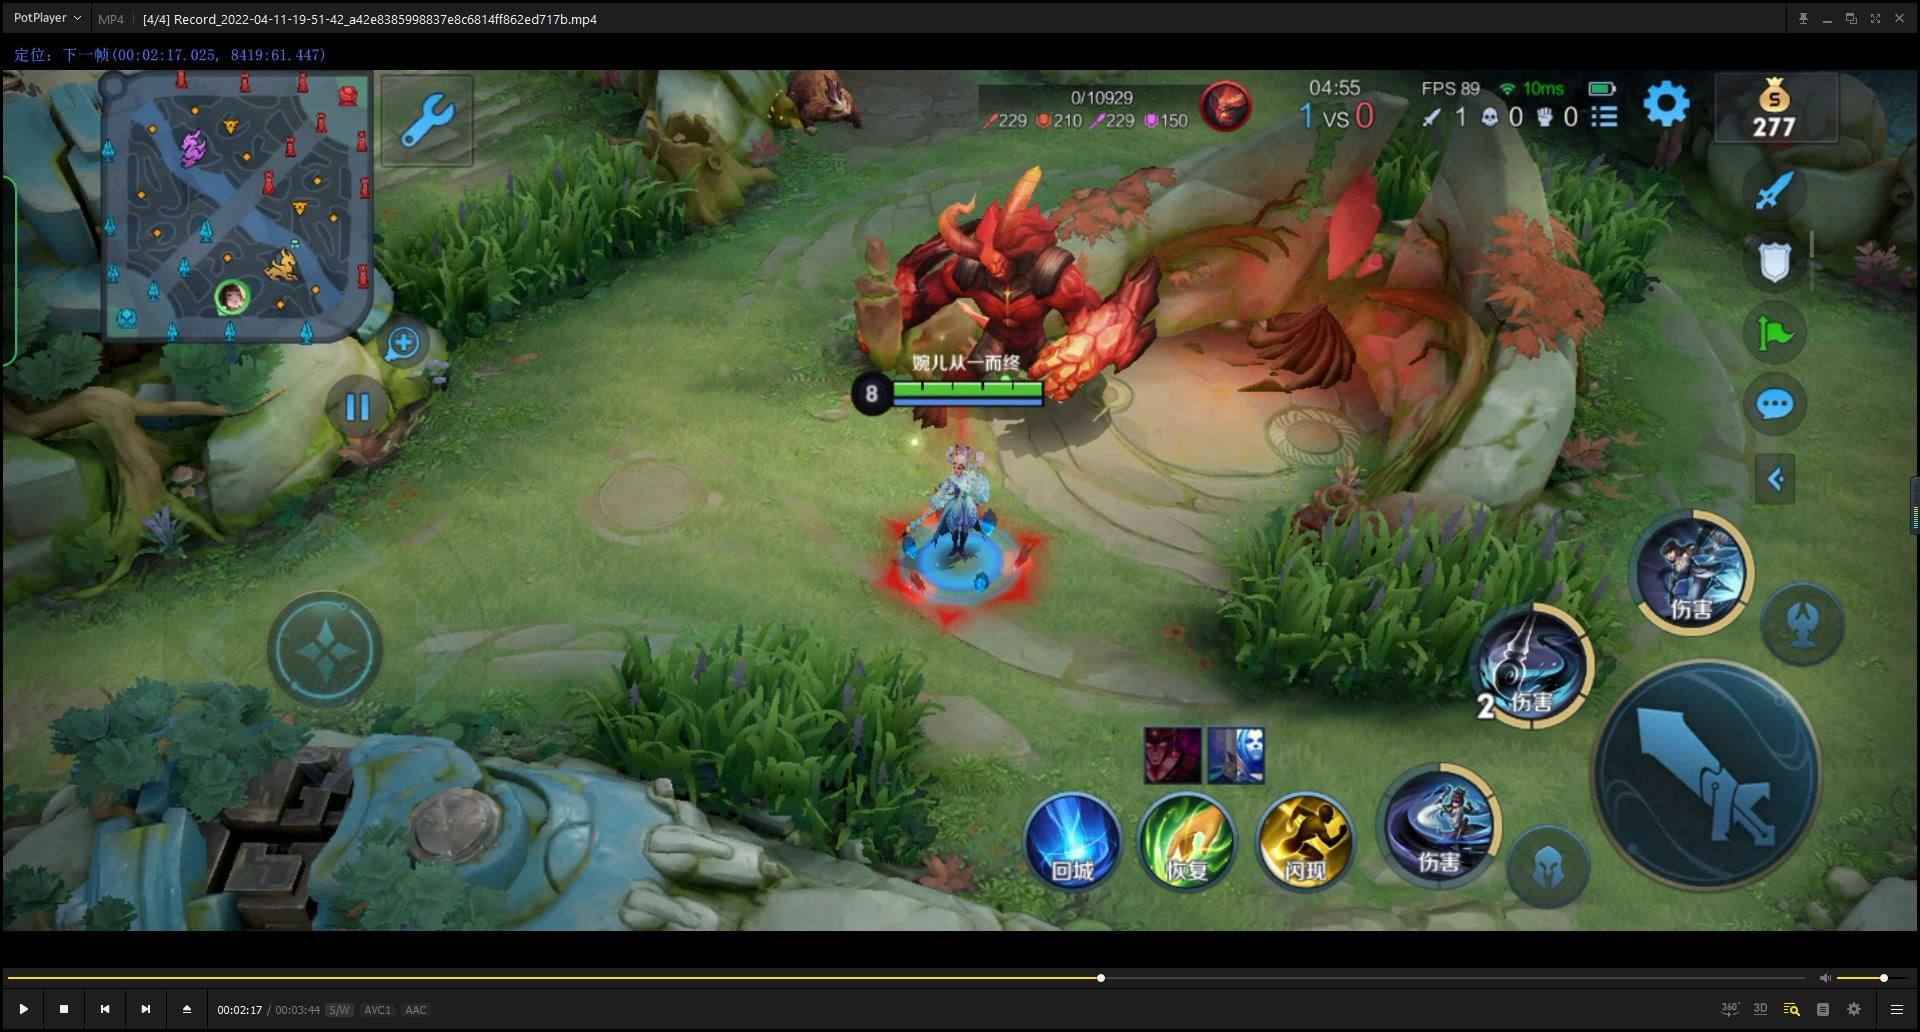Buff: (822, 175, 1170, 450)
Hero: (867, 444, 1037, 613)
Pig: (762, 70, 884, 133)
